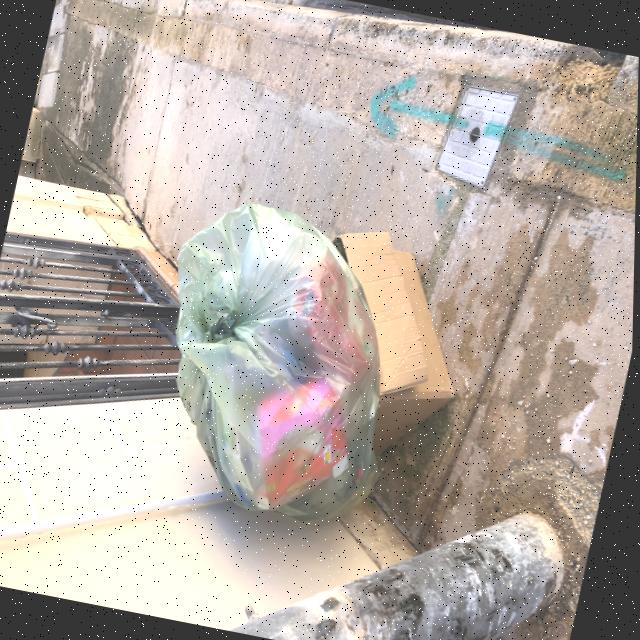Other: (321, 215, 491, 422)
Recycled Waste -Grey or Green Bag-: (132, 197, 433, 527)
